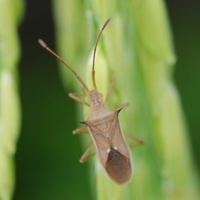insect: (38, 18, 131, 183)
